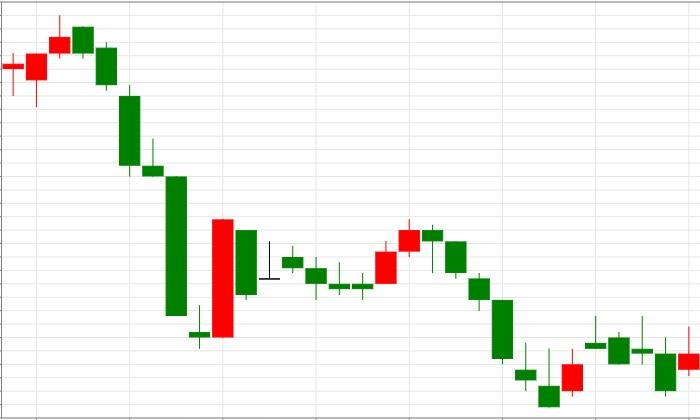inverse_hammer_rise: (422, 224, 560, 407)
morning_star_rise: (72, 26, 234, 348)
